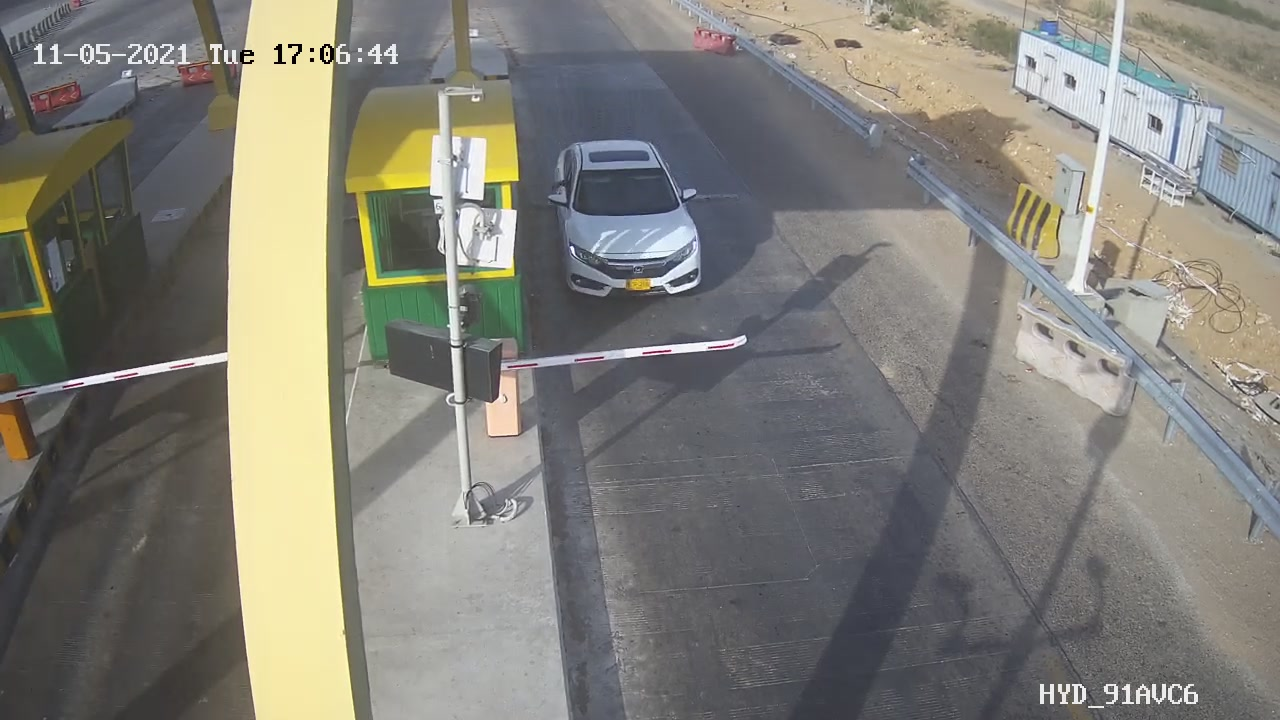F1: (531, 125, 729, 313)
